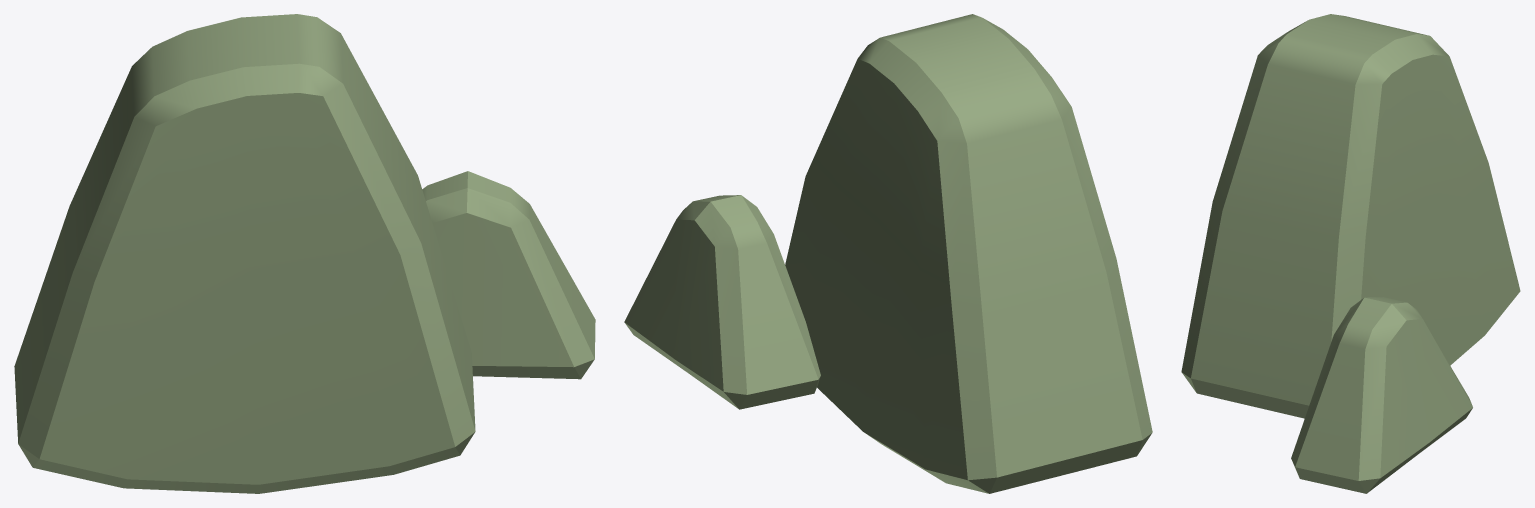
Rendered from PlantTwoDark.fbx.
3 renders of one model, left to right at view 1: azimuth 30°, elevation 25°; view 2: azimuth 150°, elevation 25°; view 3: azimuth 270°, elevation 25°, orthographic. The views are drawn at different scales.
Visible parts, largest first — view 1: pasted__pCube39, pasted__pCube40; view 2: pasted__pCube39, pasted__pCube40; view 3: pasted__pCube39, pasted__pCube40.
Boxes of the visible parts, x1=… form: pasted__pCube39: x1=14, y1=14, x2=475, y2=493; pasted__pCube40: x1=422, y1=171, x2=595, y2=379; pasted__pCube39: x1=785, y1=14, x2=1152, y2=493; pasted__pCube40: x1=624, y1=195, x2=820, y2=409; pasted__pCube39: x1=1181, y1=14, x2=1520, y2=418; pasted__pCube40: x1=1291, y1=297, x2=1472, y2=493.
Bounding box in the file's own units: 1.96 × 1.37 × 1.22.
